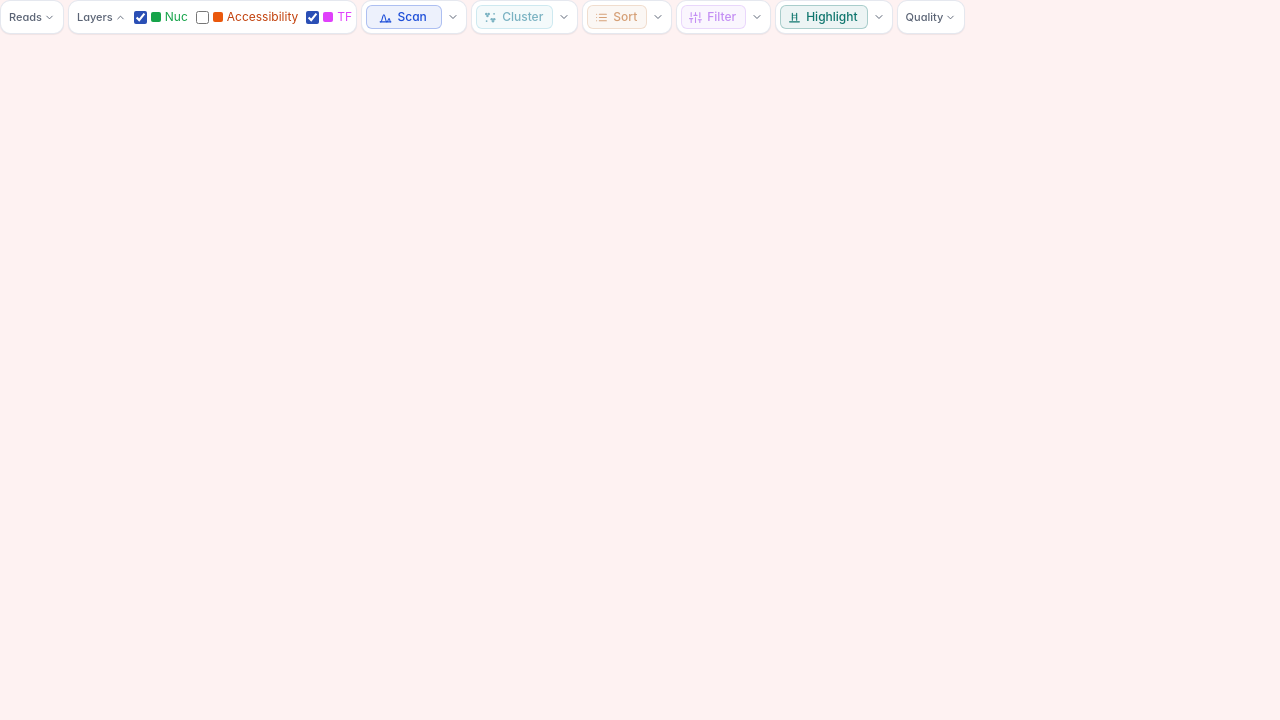
Test: ClusterPanel toolbar groups › opens a group in the row and keeps it open (several at once, remembered) until folded
Click the button "Quality" at (931, 17), box [902, 7, 960, 27]
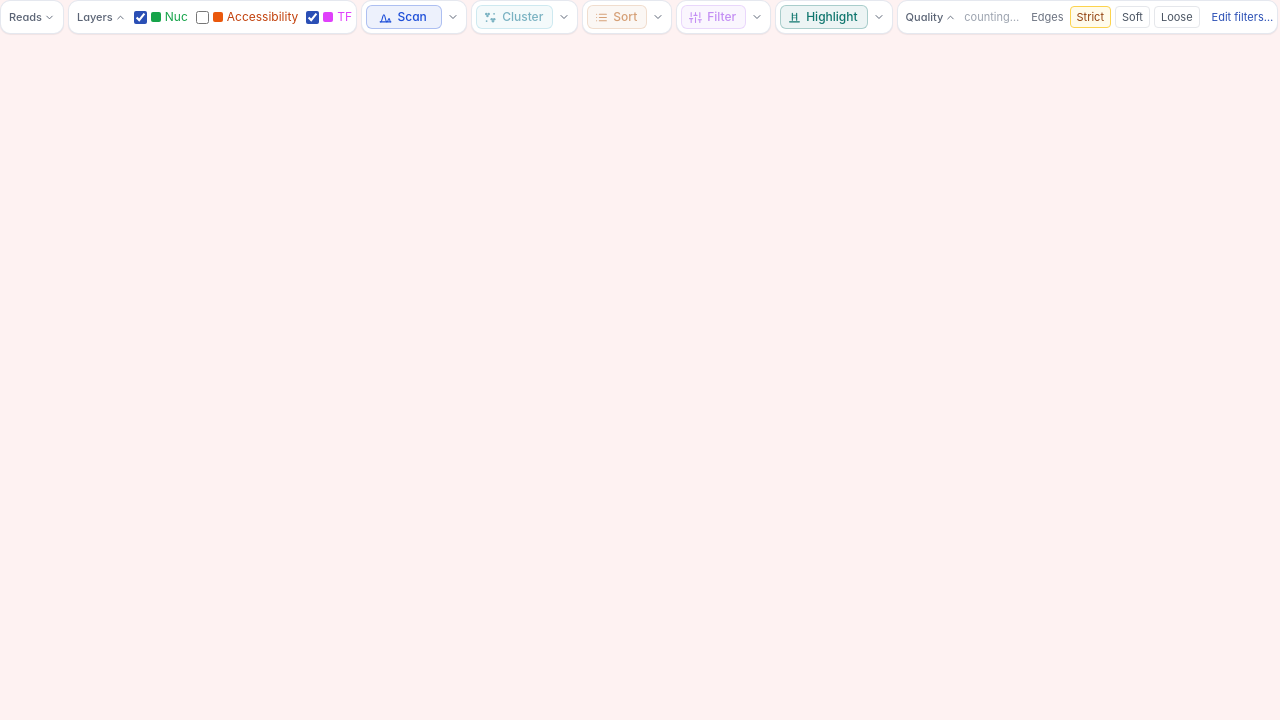
Click the button with test id "toolbar-group-toggle-sort" at (658, 17), box [649, 6, 667, 28]
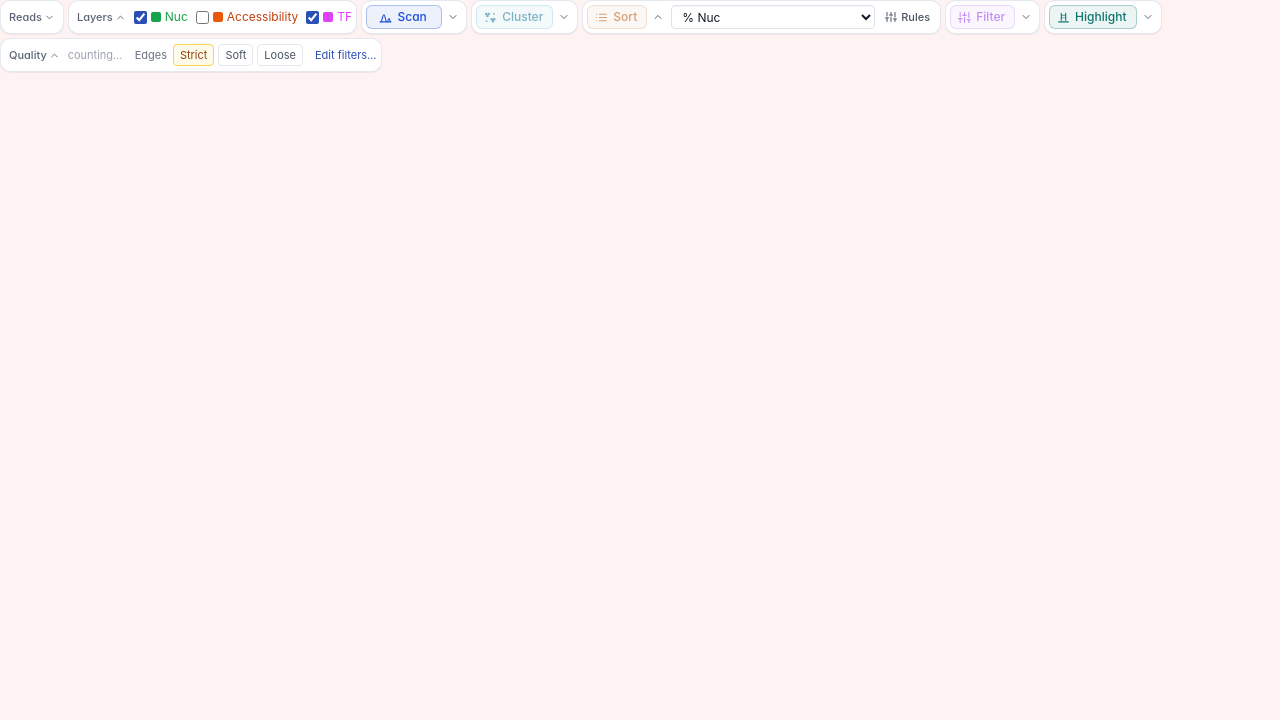
Now the dropdown named "Selected peaks set the sort region; with none selected, use" is shown, box [671, 5, 875, 29]
Press the mouse on the element that starts with "Reads" at (640, 360), box [0, 0, 1279, 719]
Now the dropdown named "Selected peaks set the sort region; with none selected, use" is shown, box [671, 5, 875, 29]
Click the button with test id "toolbar-group-toggle-sort" at (658, 17), box [649, 6, 667, 28]
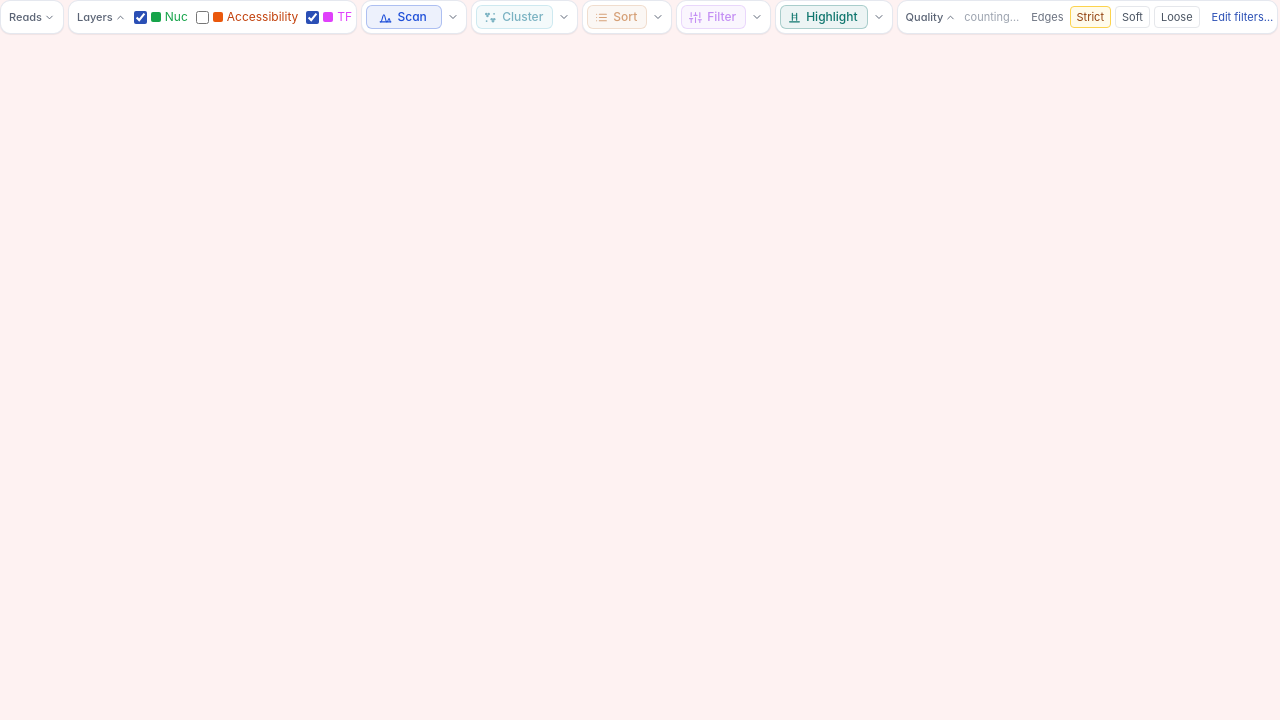
Now the button with test id "toolbar-group-toggle-sort" is collapsed, box [649, 6, 667, 28]
Now the dropdown is gone
